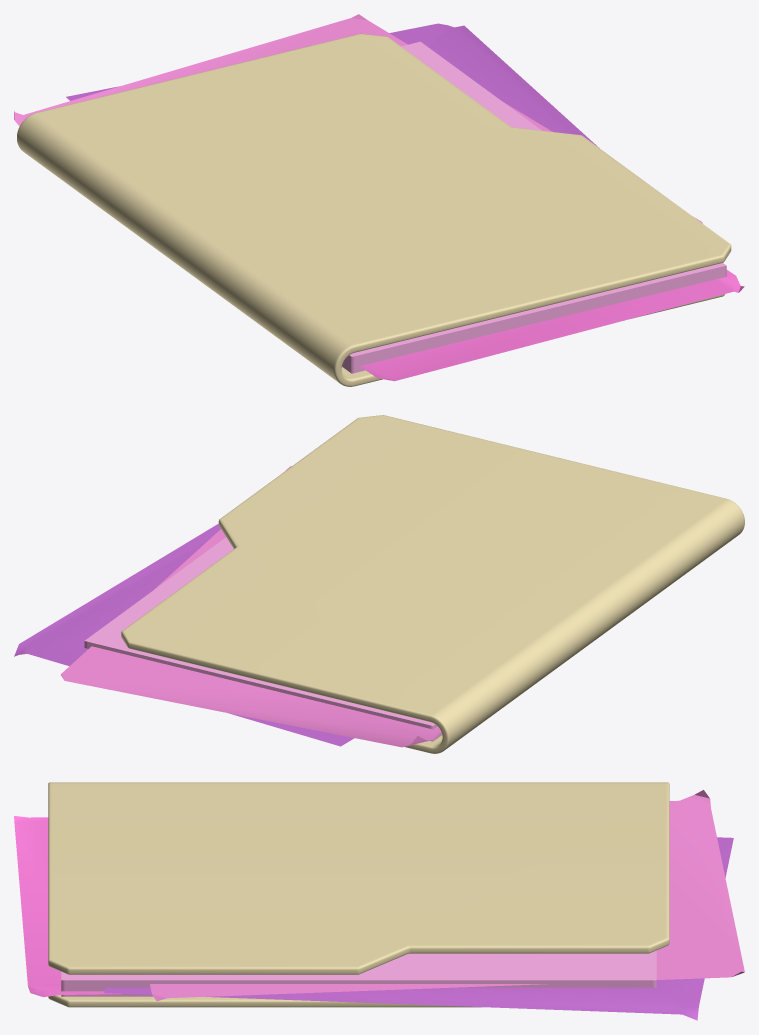
File: Folder.fbx
3 views of the same model, one above another, from view 1: azimuth 30°, elevation 25°; view 2: azimuth 150°, elevation 25°; view 3: azimuth 270°, elevation 25° (orthographic). The views are drawn at different scales.
Visible parts, largest first — view 1: Folder_1Shape, A4_Paper_StackShape_8_0, A4_Page3Shape_2_0, A4_Page2Shape_4_0, A4_Page1Shape_6_0; view 2: Folder_1Shape, A4_Page1Shape_6_0, A4_Page2Shape_4_0, A4_Paper_StackShape_8_0; view 3: Folder_1Shape, A4_Page1Shape_6_0, A4_Paper_StackShape_8_0, A4_Page2Shape_4_0, A4_Page3Shape_2_0.
Part boxes in pixels (x1,y1,x2,y2): Folder_1Shape: [17, 33, 731, 386]; A4_Paper_StackShape_8_0: [342, 41, 726, 373]; A4_Page3Shape_2_0: [360, 270, 744, 381]; A4_Page2Shape_4_0: [66, 23, 598, 147]; A4_Page1Shape_6_0: [14, 14, 702, 223]; Folder_1Shape: [121, 415, 744, 753]; A4_Page1Shape_6_0: [61, 466, 441, 747]; A4_Page2Shape_4_0: [14, 524, 354, 746]; A4_Paper_StackShape_8_0: [84, 537, 442, 741]; Folder_1Shape: [48, 782, 669, 1007]; A4_Page1Shape_6_0: [150, 790, 744, 1001]; A4_Paper_StackShape_8_0: [61, 950, 656, 996]; A4_Page2Shape_4_0: [104, 837, 733, 1020]; A4_Page3Shape_2_0: [14, 816, 120, 997].
Size of the model in its own units: 255 by 22.01 by 365.
